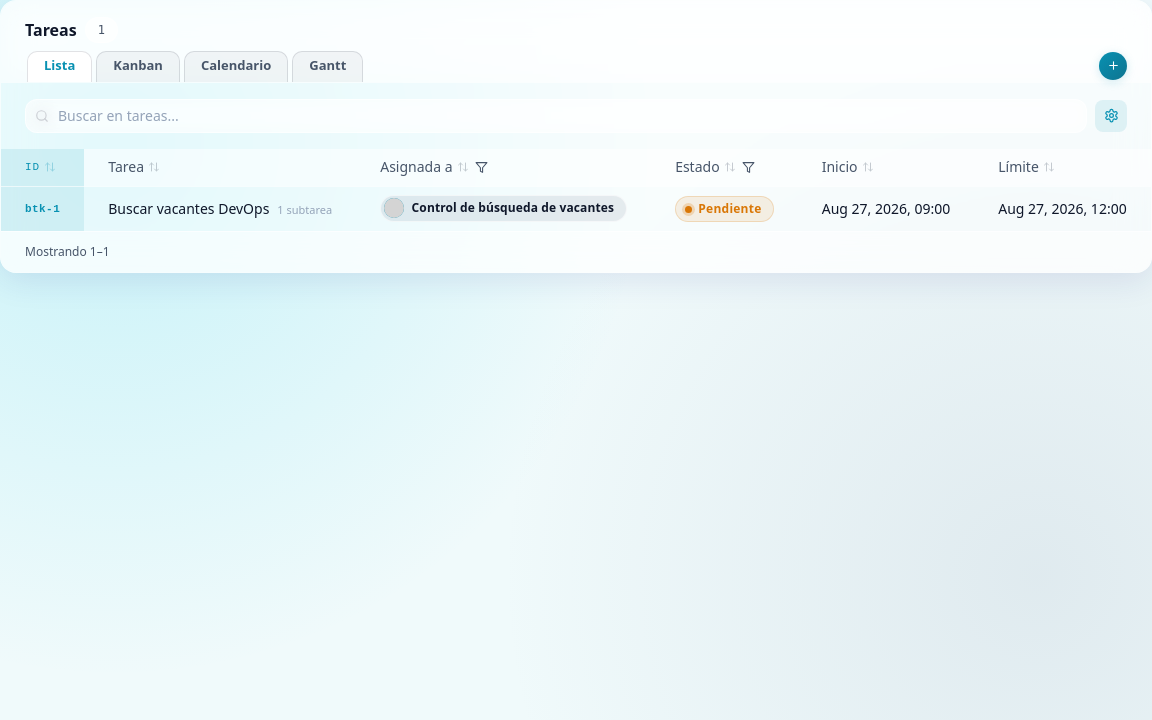
Scenario: TasksPage › lists subtasks on the parent record view
The width and height of the screenshot is (1152, 720).
Click the text "Buscar vacantes DevOps".
click(220, 209)  # box [84,186,356,231]
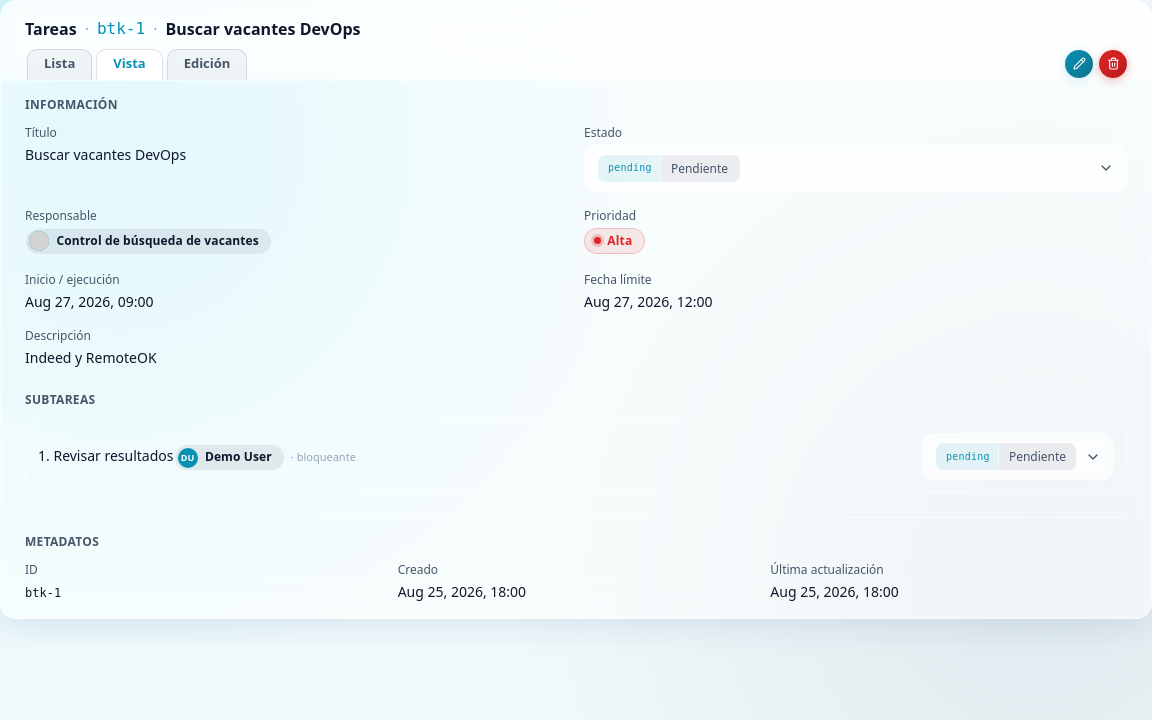
Check: the heading "Subtareas" is shown, box [25,391,95,408]
Check: the button "1. Revisar resultados" is shown, box [38,446,174,466]
